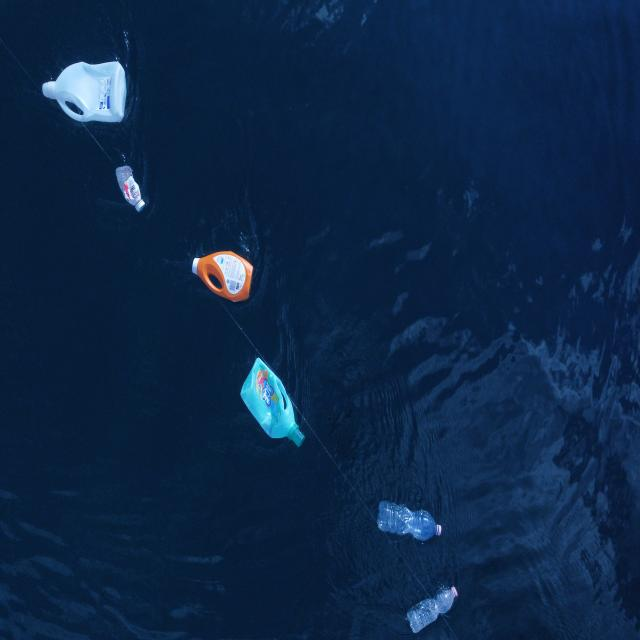bottles: (239, 355, 306, 449), (41, 59, 128, 127), (191, 250, 254, 304), (377, 499, 442, 543), (406, 582, 459, 634), (115, 164, 146, 213)
